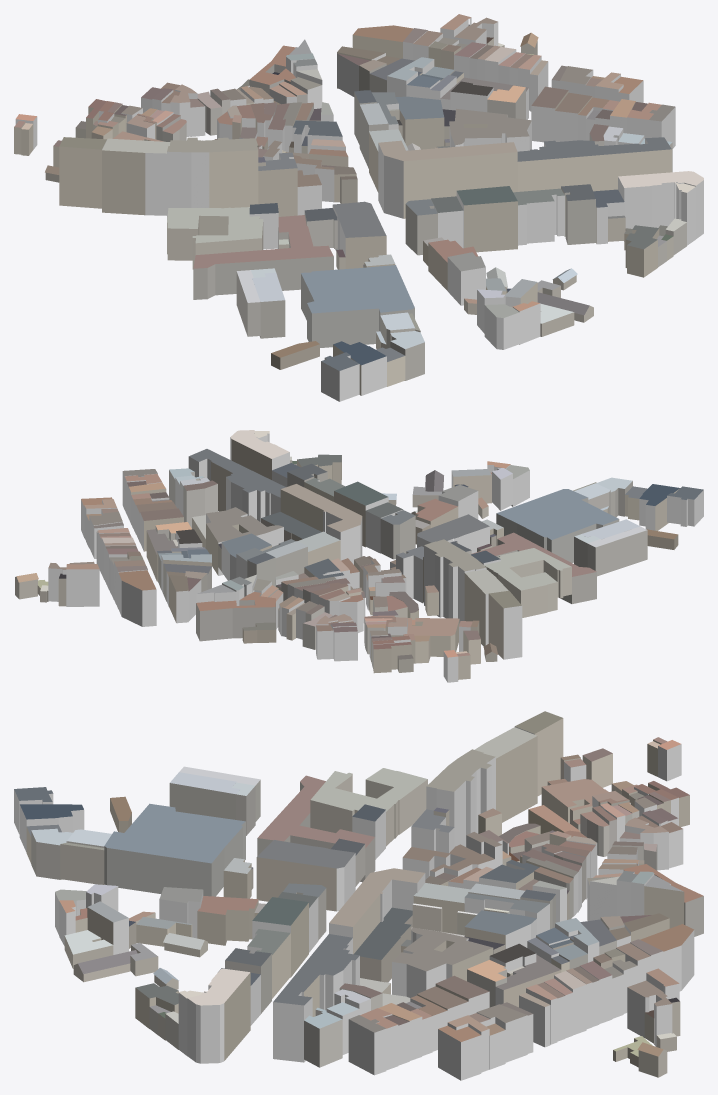
3 renders of one model, top to bottom at view 1: azimuth 30°, elevation 25°; view 2: azimuth 150°, elevation 25°; view 3: azimuth 270°, elevation 25°, orthographic. The views are drawn at different scales.
Visible parts, largest first — view 1: tuile; view 2: tuile; view 3: tuile.
Boxes of the visible parts, x1,y1,x2,y2 form: tuile: [14, 14, 703, 401]; tuile: [15, 430, 703, 682]; tuile: [14, 711, 703, 1080].
Bounding box in the file's own units: 262 × 42.93 × 264.
